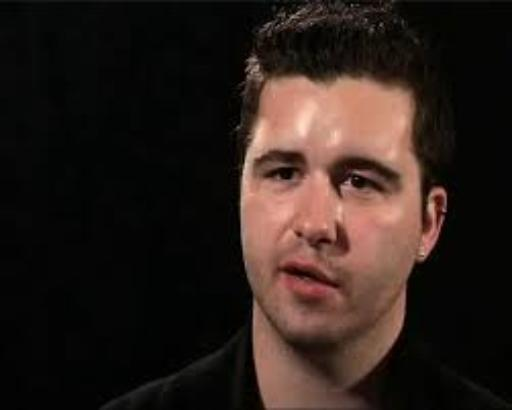left_eye: (339, 174, 389, 196)
left_lip_corner: (331, 278, 348, 299)
right_eye: (262, 166, 304, 186)
right_lip_corner: (274, 263, 293, 282)
